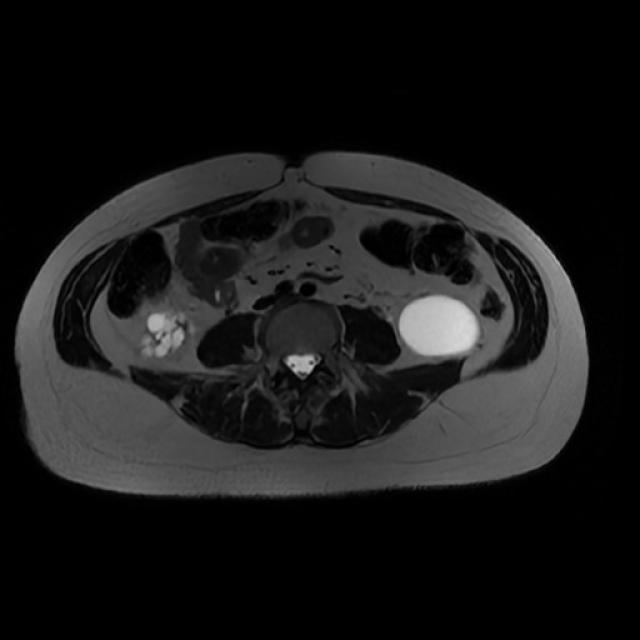sag: (136, 310, 197, 361)
sol: (395, 295, 483, 357)
